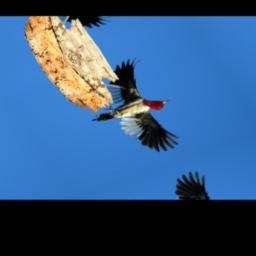Woodpecker: (65, 55, 197, 168)
